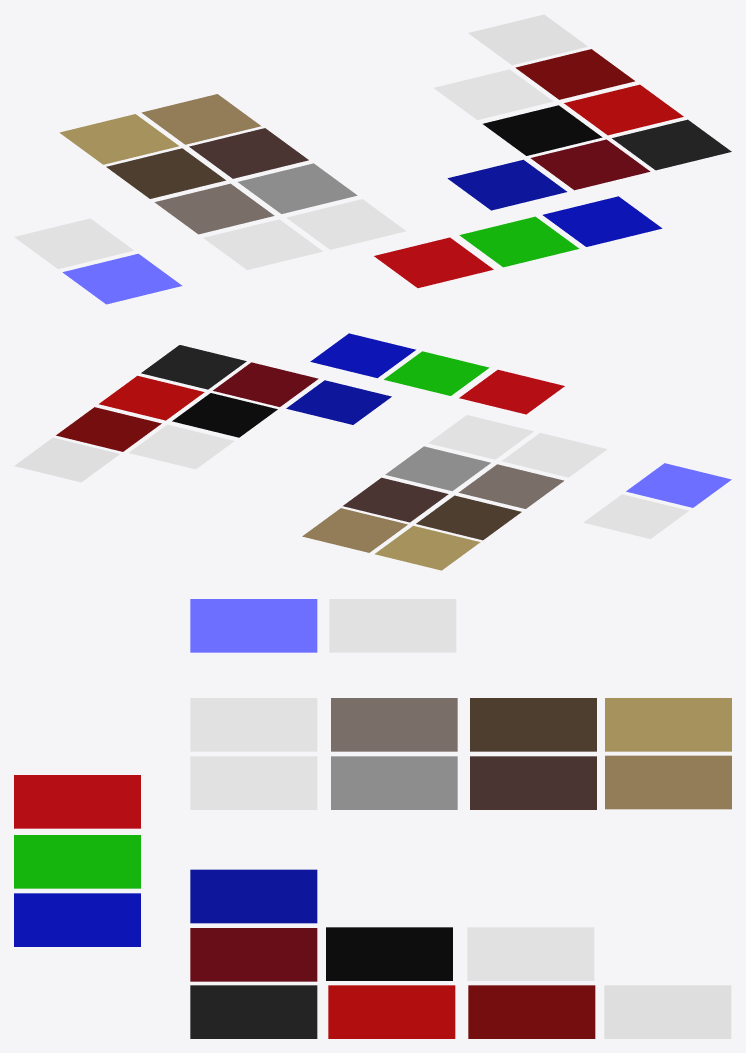
The model's file is REFRRpbrPaint.dae.
3 views of the same model, one above another, from view 1: azimuth 30°, elevation 25°; view 2: azimuth 150°, elevation 25°; view 3: azimuth 270°, elevation 25° (orthographic). The views are drawn at different scales.
Parts seen in each view (by area): view 1: RRpbrGoldPolishedREF, RRpbrBronzeREF, RRpbrPaintSecondaryREF, RRpbrCandyRedREF, RRpbrTertiaryGlowREF, RRpbrGlossWhiteREF, RRpbrMatteRedDarkREF, RRpbrMatteWhiteREF, RRpbrMatteRedREF, RRpbrMatteBlackREF, RRpbrGlossBlackREF, RRpbrBrassREF (+9 smaller); view 2: RRpbrPaintPrimaryREF, RRpbrGlossWhiteREF, RRpbrBrassREF, RRpbrMatteRedDarkREF, RRpbrCopperREF, RRpbrVinylWrapBlueREF, RRpbrAluminumPolishREF, RRpbrSteelREF, RRpbrWhiteGlowREF, RRpbrMatteWhiteREF, RRpbrGlossBlackREF, RRpbrPaintSecondaryREF (+9 smaller); view 3: RRpbrVinylWrapBlueREF, RRpbrGoldPolishedREF, RRpbrGlossWhiteREF, RRpbrMatteRedDarkREF, RRpbrMatteWhiteREF, RRpbrMatteRedREF, RRpbrMatteBlackREF, RRpbrCandyRedREF, RRpbrAluminumPolishREF, RRpbrAluminumSemiPolishREF, RRpbrTertiaryGlowREF, RRpbrWhiteGlowREF (+9 smaller).
Part boxes in pixels (left/top/right/bottom): RRpbrGoldPolishedREF: left=141, top=94, right=261, bottom=144; RRpbrBronzeREF: left=106, top=148, right=225, bottom=198; RRpbrPaintSecondaryREF: left=459, top=216, right=579, bottom=267; RRpbrCandyRedREF: left=530, top=139, right=650, bottom=190; RRpbrTertiaryGlowREF: left=62, top=253, right=182, bottom=304; RRpbrGlossWhiteREF: left=434, top=69, right=553, bottom=119; RRpbrMatteRedDarkREF: left=515, top=49, right=634, bottom=99; RRpbrMatteWhiteREF: left=468, top=14, right=587, bottom=65; RRpbrMatteRedREF: left=564, top=84, right=683, bottom=135; RRpbrMatteBlackREF: left=612, top=119, right=731, bottom=170; RRpbrGlossBlackREF: left=483, top=105, right=602, bottom=155; RRpbrBrassREF: left=59, top=114, right=179, bottom=164; RRpbrPaintPrimaryREF: left=459, top=369, right=564, bottom=414; RRpbrGlossWhiteREF: left=129, top=424, right=234, bottom=469; RRpbrBrassREF: left=374, top=525, right=480, bottom=570; RRpbrMatteRedDarkREF: left=56, top=407, right=161, bottom=451; RRpbrCopperREF: left=343, top=477, right=448, bottom=522; RRpbrVinylWrapBlueREF: left=286, top=380, right=391, bottom=424; RRpbrAluminumPolishREF: left=501, top=433, right=607, bottom=477; RRpbrSteelREF: left=458, top=464, right=563, bottom=508; RRpbrWhiteGlowREF: left=583, top=494, right=688, bottom=538; RRpbrMatteWhiteREF: left=14, top=437, right=119, bottom=482; RRpbrGlossBlackREF: left=172, top=393, right=277, bottom=437; RRpbrPaintSecondaryREF: left=384, top=351, right=489, bottom=395; RRpbrVinylWrapBlueREF: left=190, top=869, right=317, bottom=923; RRpbrGoldPolishedREF: left=605, top=755, right=731, bottom=809; RRpbrGlossWhiteREF: left=467, top=927, right=594, bottom=980; RRpbrMatteRedDarkREF: left=468, top=985, right=595, bottom=1038; RRpbrMatteWhiteREF: left=604, top=985, right=731, bottom=1038; RRpbrMatteRedREF: left=328, top=985, right=455, bottom=1038; RRpbrMatteBlackREF: left=190, top=985, right=317, bottom=1038; RRpbrCandyRedREF: left=190, top=928, right=317, bottom=981; RRpbrAluminumPolishREF: left=190, top=698, right=317, bottom=751; RRpbrAluminumSemiPolishREF: left=190, top=756, right=317, bottom=809; RRpbrTertiaryGlowREF: left=190, top=599, right=317, bottom=652; RRpbrWhiteGlowREF: left=329, top=599, right=456, bottom=652.
Size of the model in its own units: 7.03 by 4.85 by 0.
